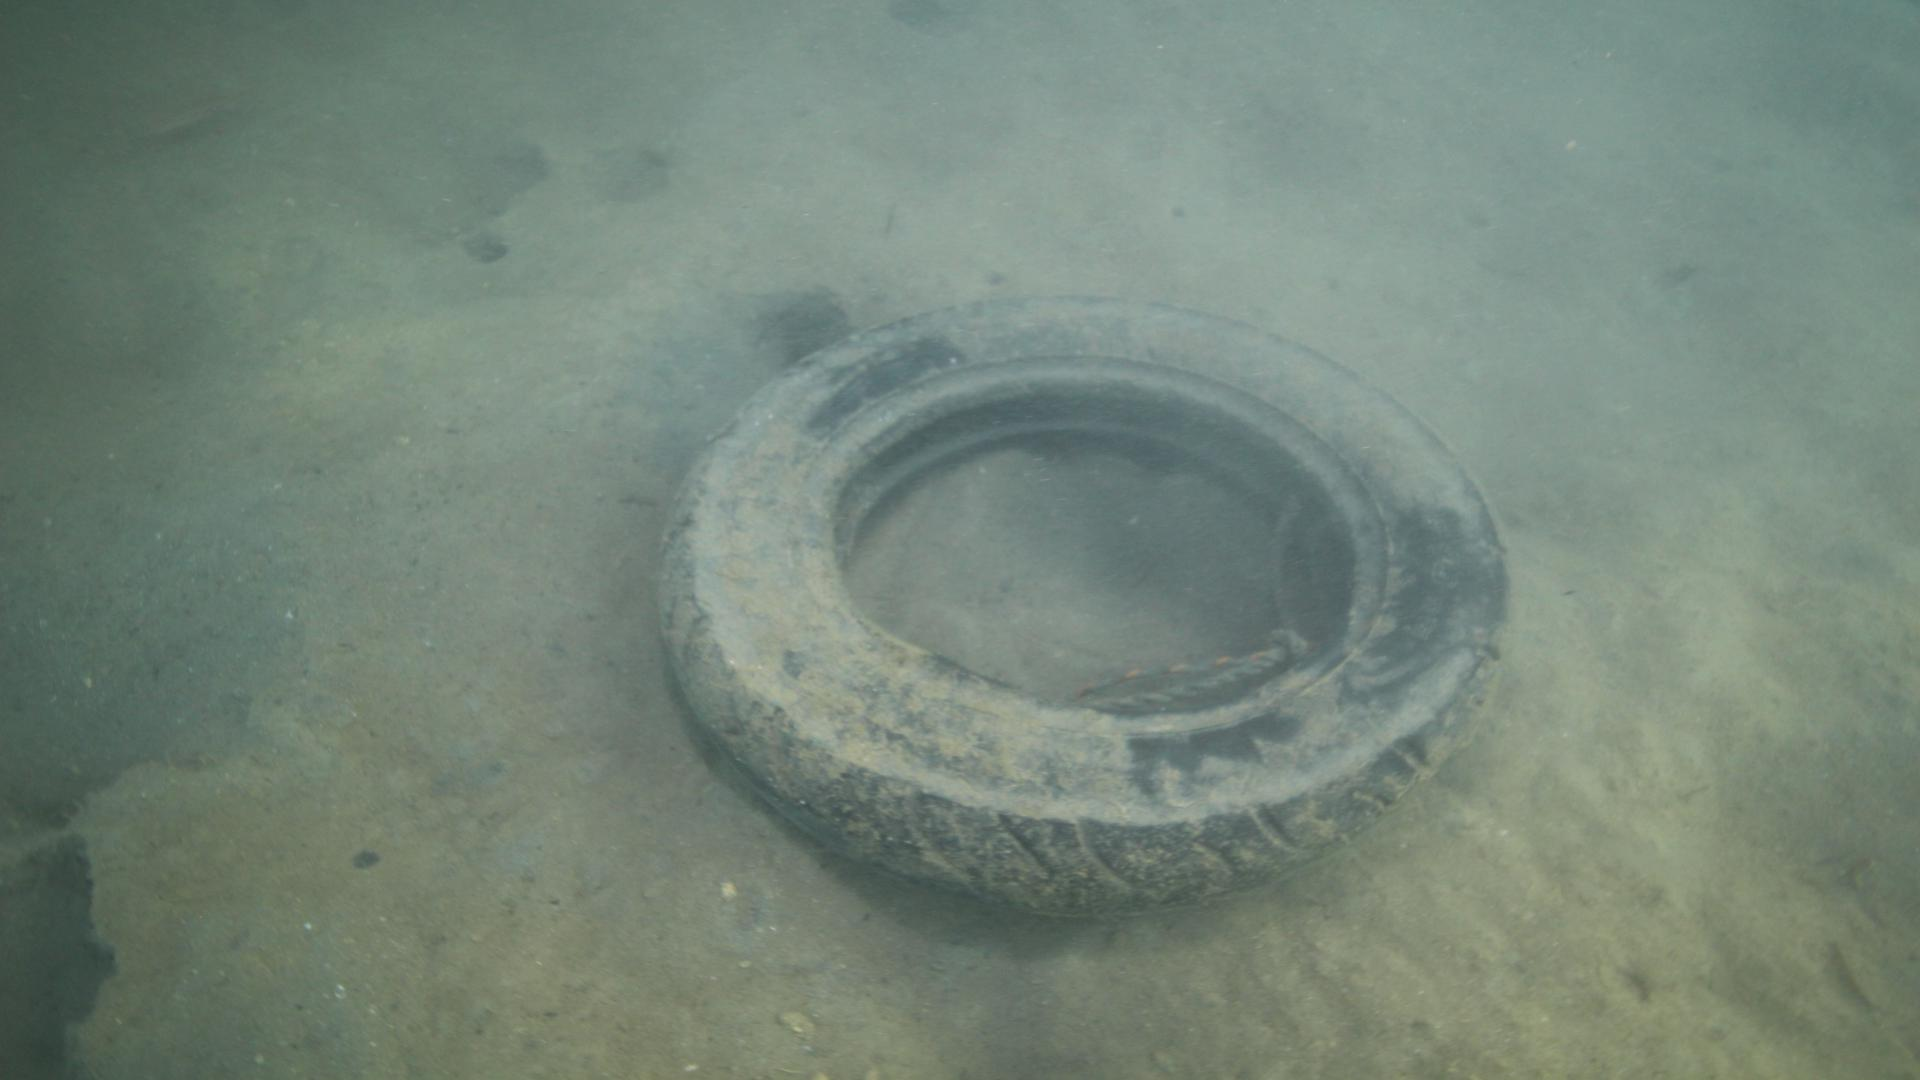rope: (1073, 626, 1308, 709)
tire: (655, 291, 1516, 923)
